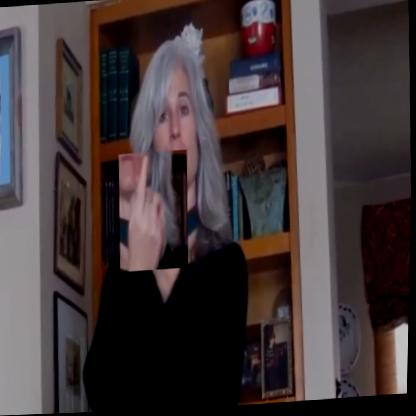NiceToMeetYou: (118, 151, 192, 273)
